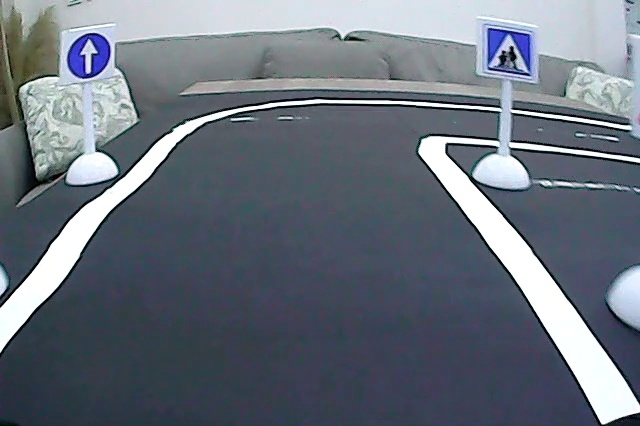school crossing: (481, 24, 536, 78)
